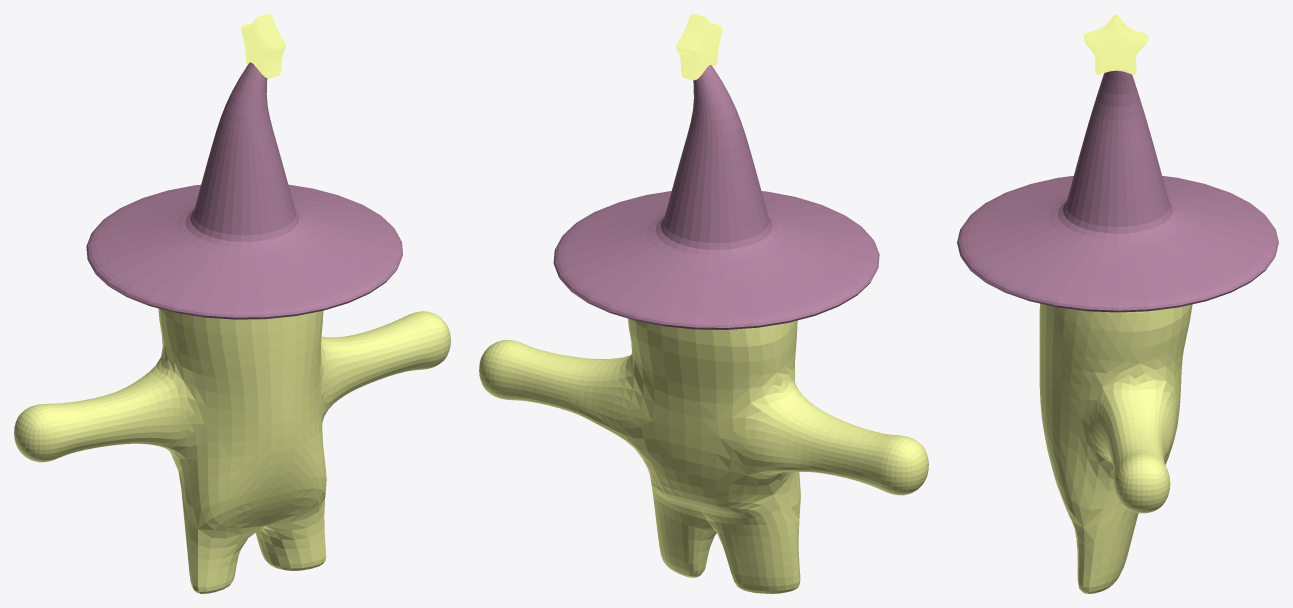
The model's file is winner.fbx.
The picture shows the model from 3 angles, left to right: view 1: azimuth 30°, elevation 25°; view 2: azimuth 150°, elevation 25°; view 3: azimuth 270°, elevation 25°; orthographic projection. The views are drawn at different scales.
Visible parts, largest first — view 1: Object_3, Object_2, Object_1; view 2: Object_3, Object_2, Object_1; view 3: Object_2, Object_3, Object_1.
Part boxes in pixels (x1,y1,x2,y2): Object_3: (14, 308, 450, 593); Object_2: (86, 62, 402, 319); Object_1: (240, 14, 286, 78); Object_3: (479, 318, 928, 593); Object_2: (553, 65, 879, 329); Object_1: (675, 14, 722, 80); Object_2: (957, 70, 1278, 312); Object_3: (1039, 303, 1192, 593); Object_1: (1084, 14, 1148, 74).
Bounding box in the file's own units: 663 × 425 × 813.
